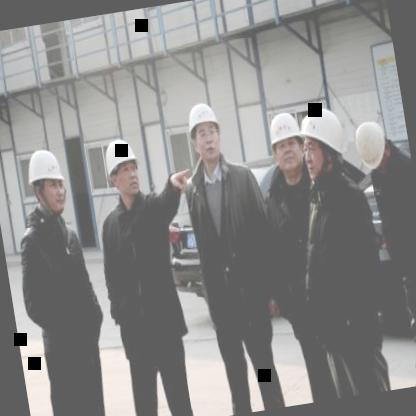helmet: (294, 104, 349, 184), (20, 140, 73, 222), (181, 93, 229, 170), (98, 131, 146, 204), (264, 106, 310, 180), (352, 116, 390, 178)
